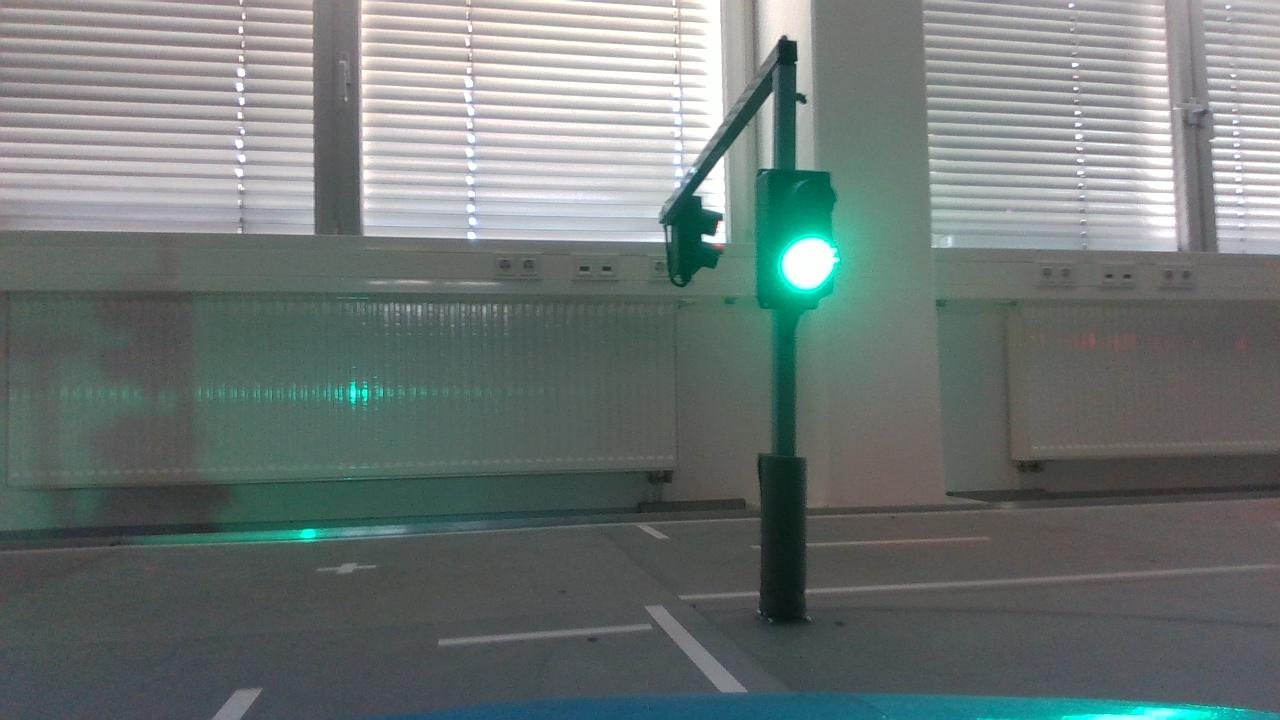traffic_light_green: (740, 155, 868, 315)
